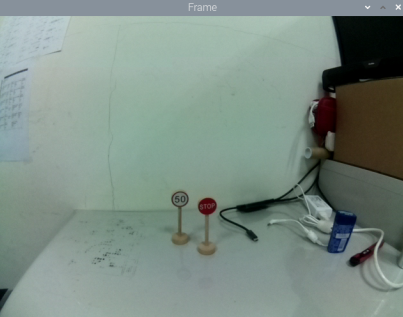Speed50: (170, 187, 191, 209)
Stop: (197, 197, 219, 216)
